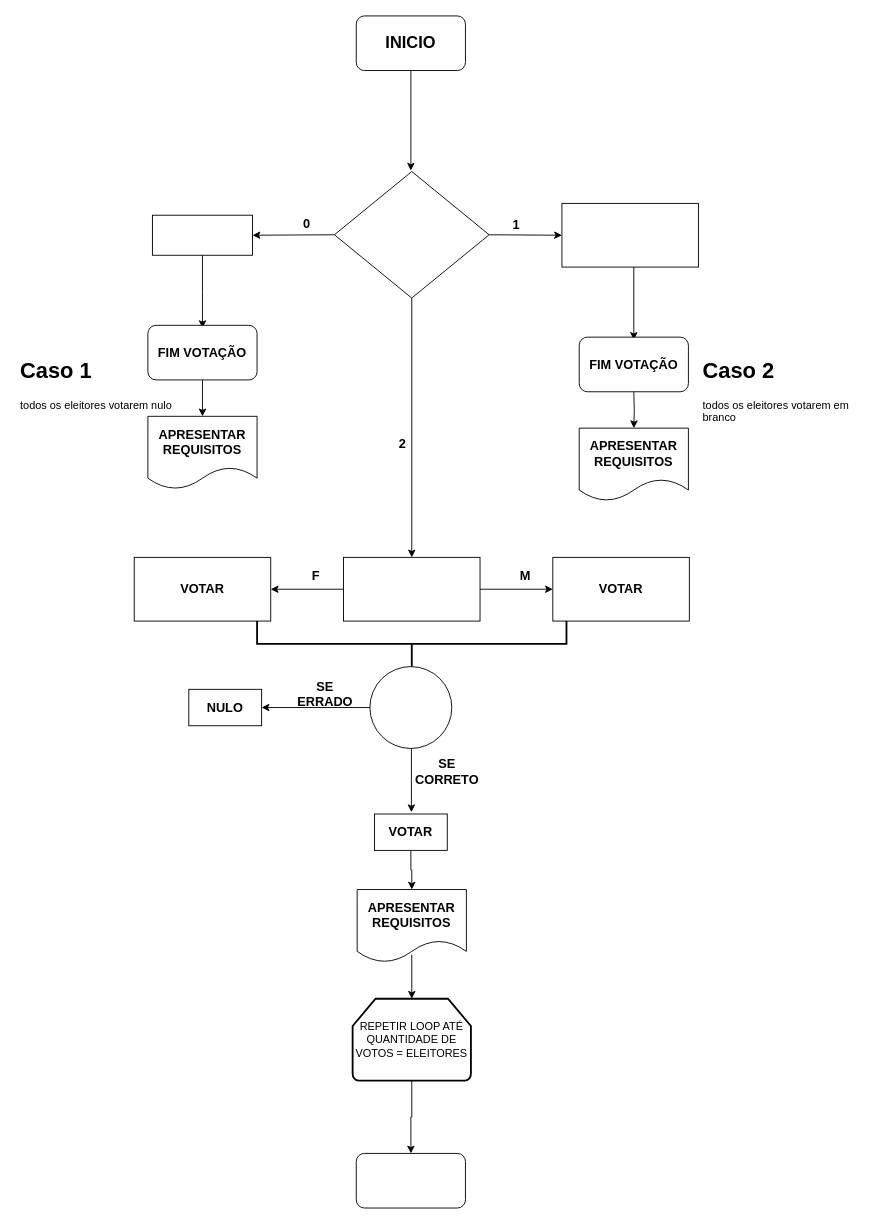
This 877x1224 diagram has some shape labels left out. Here are the shapes that lost their labels. From the top down, the centre of each, then its label:
(x=202, y=234): VOTAR NULO
(x=411, y=234): DIGITE 0 PARA NULO 1 PARA BRANCO 2 PARA PROSSEGUIR
(x=629, y=234): VOTAR EM BRANCO
(x=411, y=588): SEU CANDIDATO É M OU F?
(x=410, y=707): Conferir voto
(x=410, y=1180): FIM
